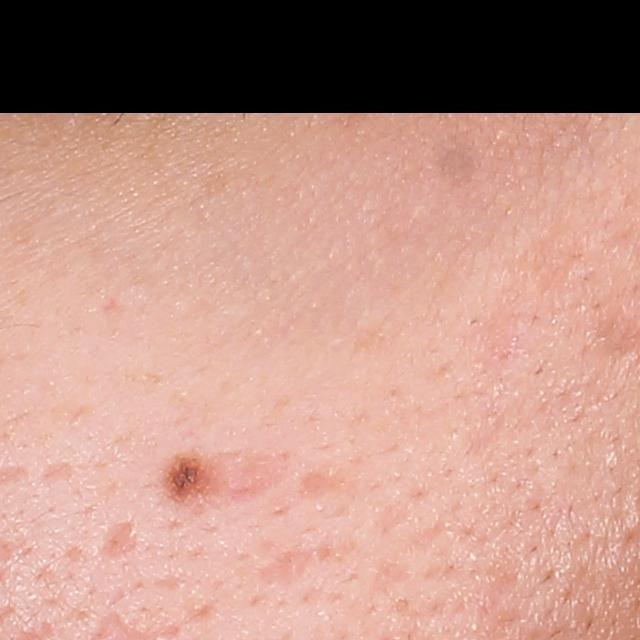atrophic_scar: (211, 446, 303, 506), (255, 540, 342, 586), (93, 516, 146, 566), (299, 474, 348, 500), (39, 457, 78, 484)
nevus: (162, 453, 209, 511)
